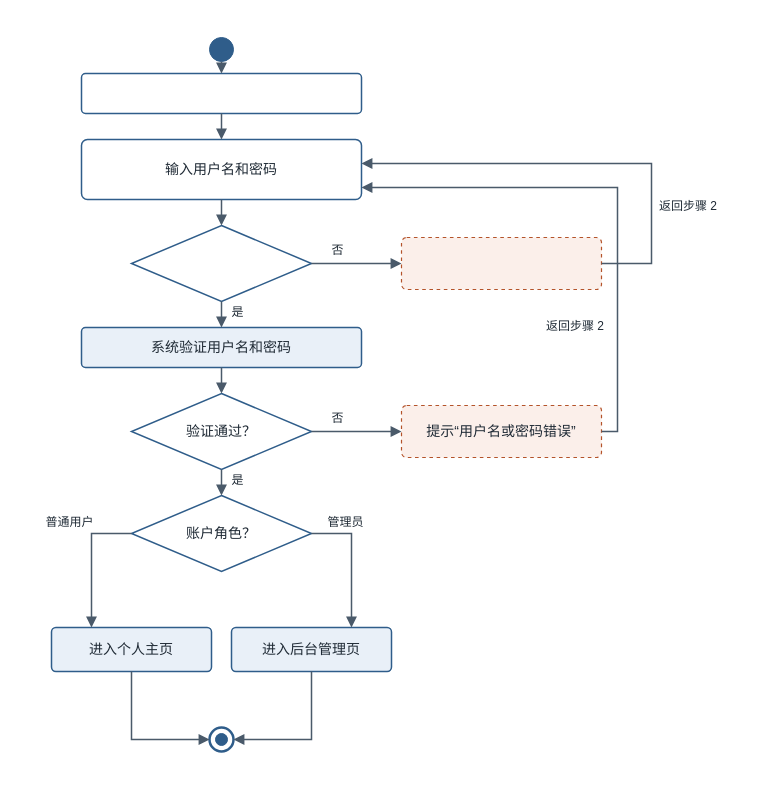
Image size: 764x792. Some labels were removed from this diagram. Here are the shapes that lost their labels. From the top down, the centre of each, then its label:
(221,93): 打开登录页面
(221,263): 输入完整？
(501,263): 提示补全输入
